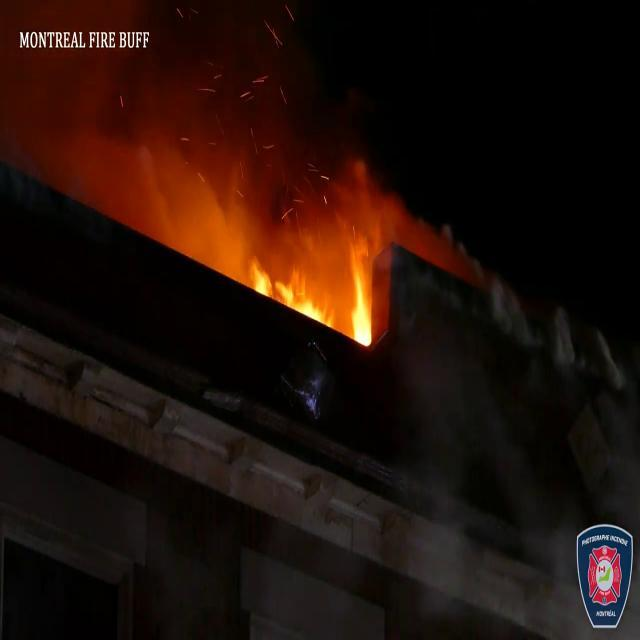Fire: (344, 242, 380, 352)
Smoke: (1, 2, 393, 260)
